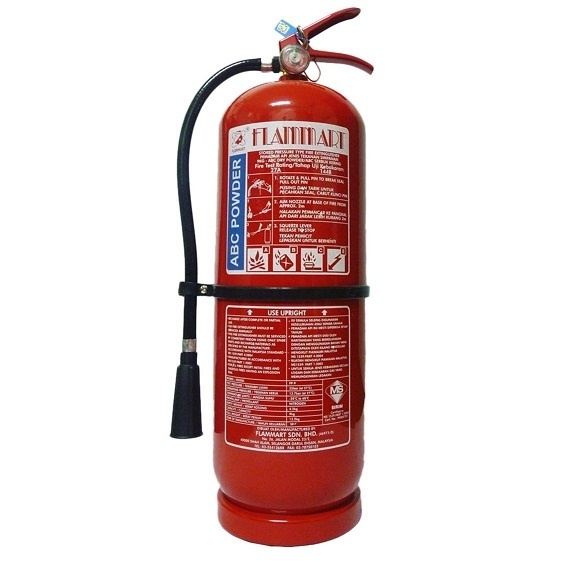fire_extinguisher: (171, 6, 374, 547)
